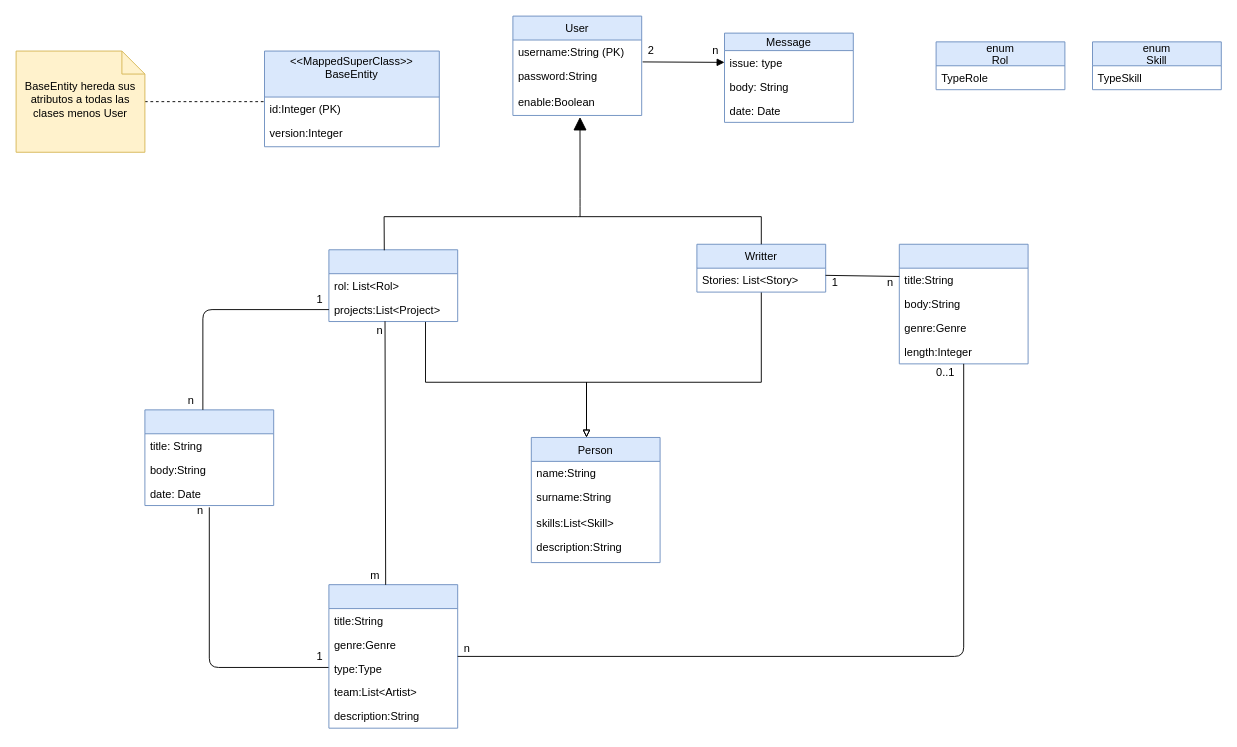
Some shapes in this 1237 by 747 pixel diagram are drawn without their labels. Each missing label, with the box of its shape:
Artist: (328, 249, 458, 322)
Post: (144, 409, 274, 506)
Project: (328, 584, 458, 728)
Story: (898, 243, 1028, 364)
